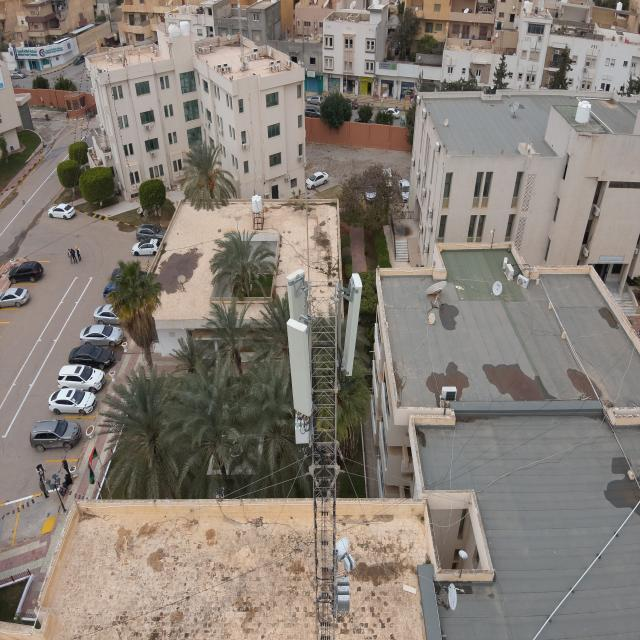antenna: (283, 318, 314, 419), (340, 268, 364, 375), (280, 266, 312, 320), (245, 346, 354, 347)
lighnig-rad: (303, 186, 313, 304)
microware-dish: (331, 537, 357, 574)
power-box: (334, 572, 352, 612)
radio-unit: (291, 411, 312, 446)
